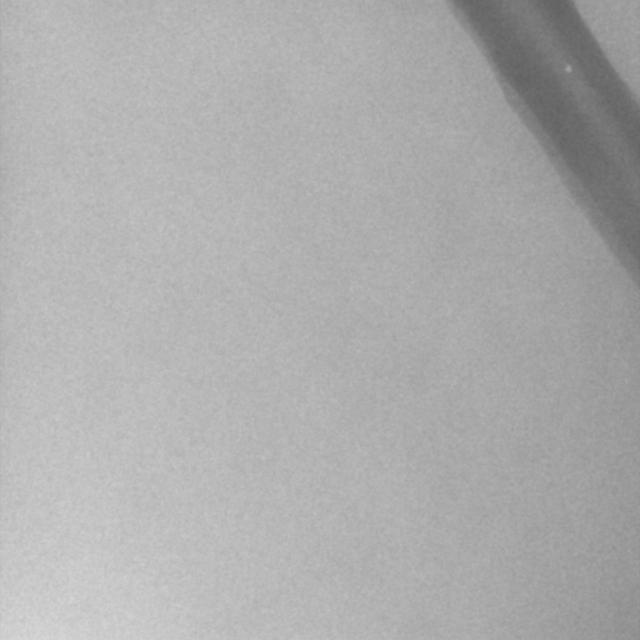air hole: (563, 63, 572, 72)
